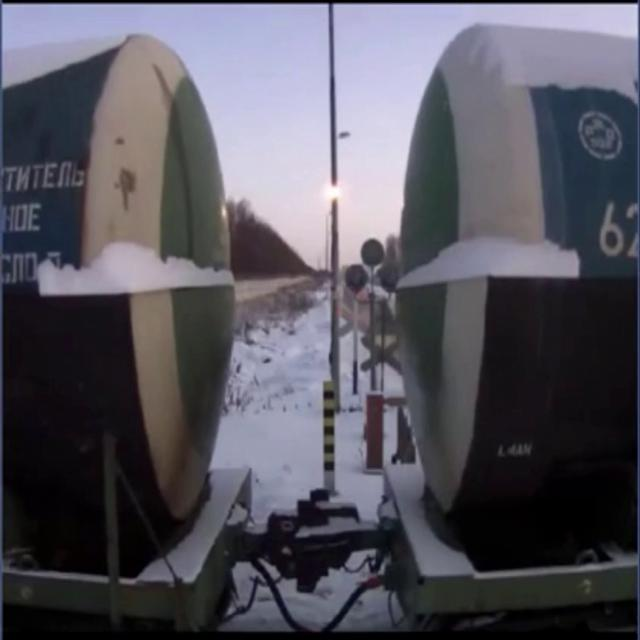tank: (372, 10, 640, 638), (0, 15, 264, 640)
